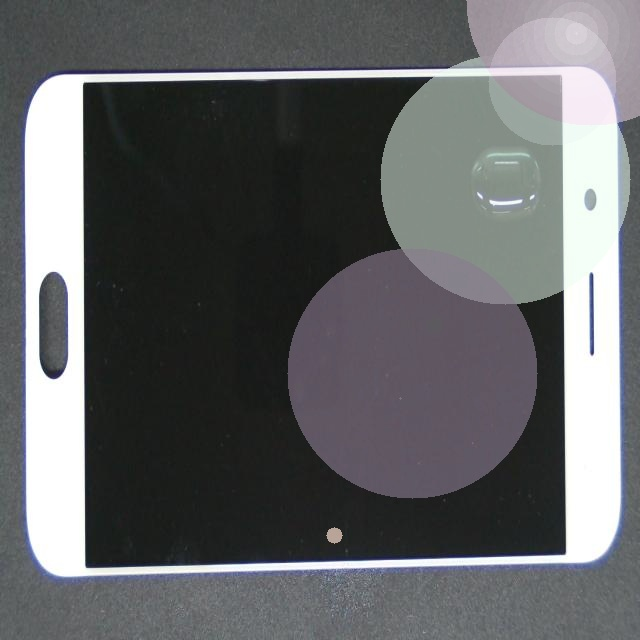oil: (287, 114, 640, 258)
